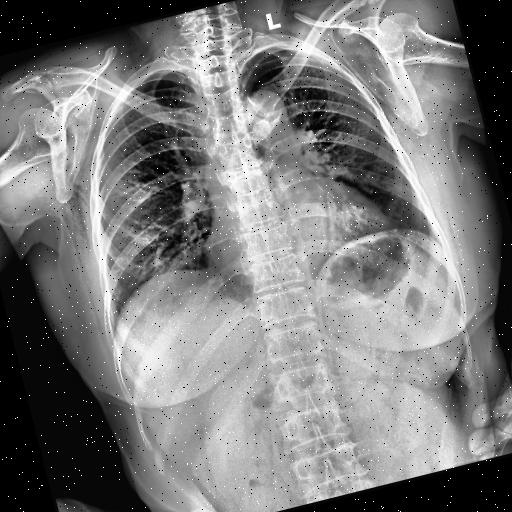0- Aortic enlargement: (228, 83, 298, 169), (236, 84, 298, 148), (244, 84, 289, 130)
3- Cardiomegaly: (198, 188, 402, 294), (200, 198, 393, 280)
